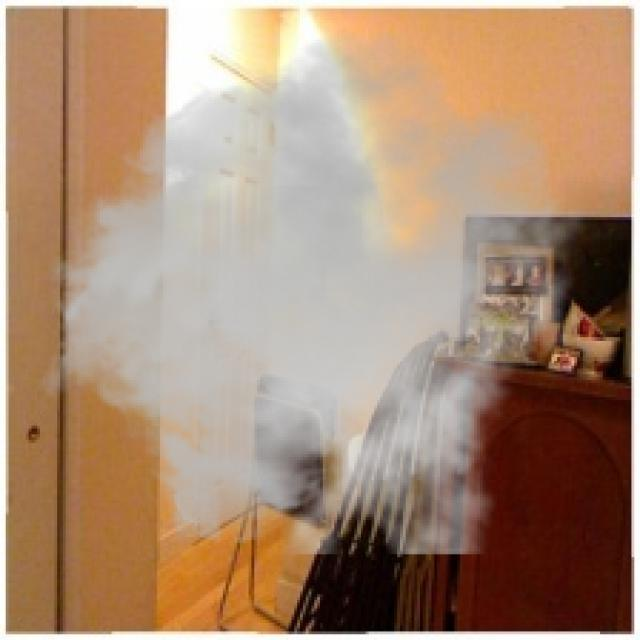Smoke: (37, 28, 589, 554)
